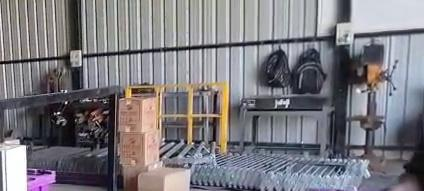box: (27, 169, 55, 190)
